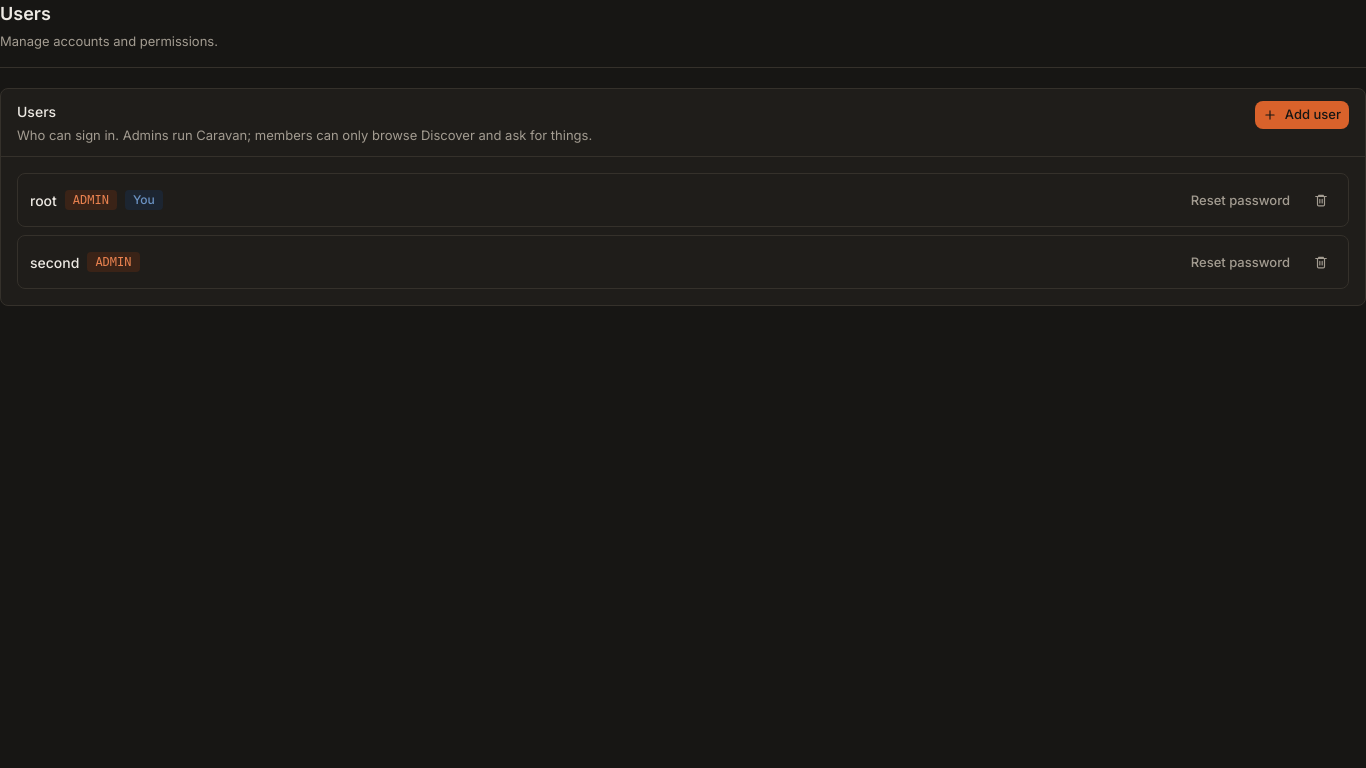
Test: Users settings › shows the last-admin refusal in the dialog rather than losing it
The width and height of the screenshot is (1366, 768).
Step 1. Click the button named "Delete root" → point(1321, 200), box [1306,186,1336,214]
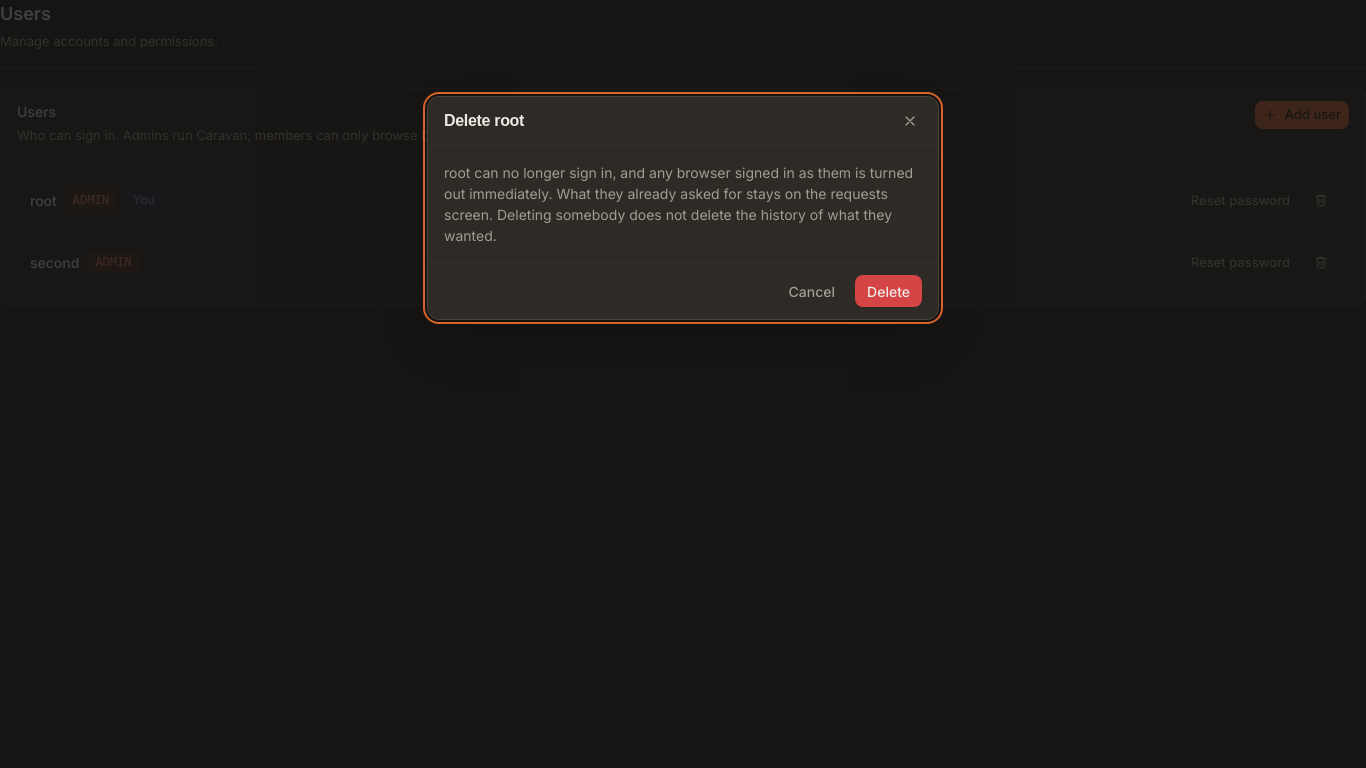
Expected: the dialog is shown, [427,96,939,320]
Expected: the button "Delete" is shown
Step 2. Click the button "Delete" → point(889, 291), box [855,275,922,307]
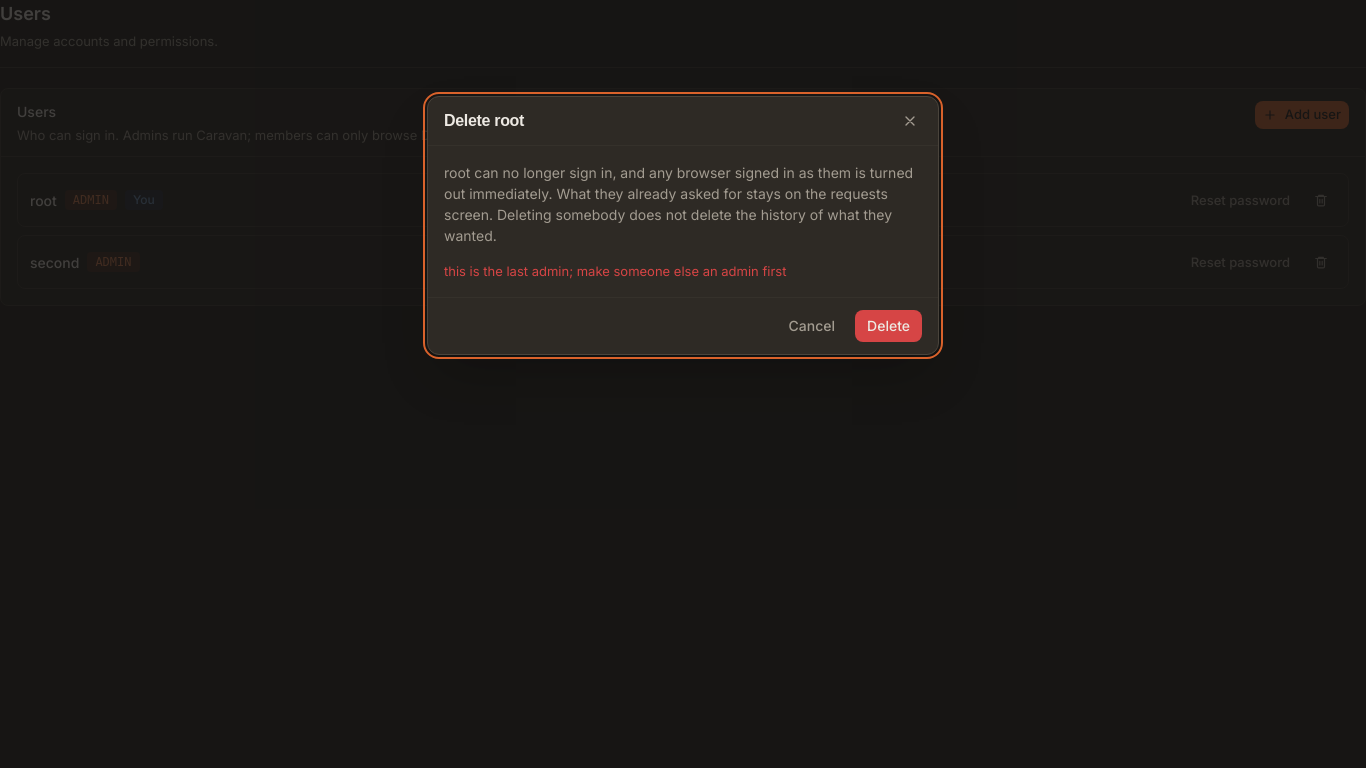
Expected: the number of list items is 2, [17,173,1349,227]; [17,235,1349,289]
Expected: the dialog is shown, [427,96,939,355]
Expected: the dialog shows "this is the last admin", [444,263,786,279]
